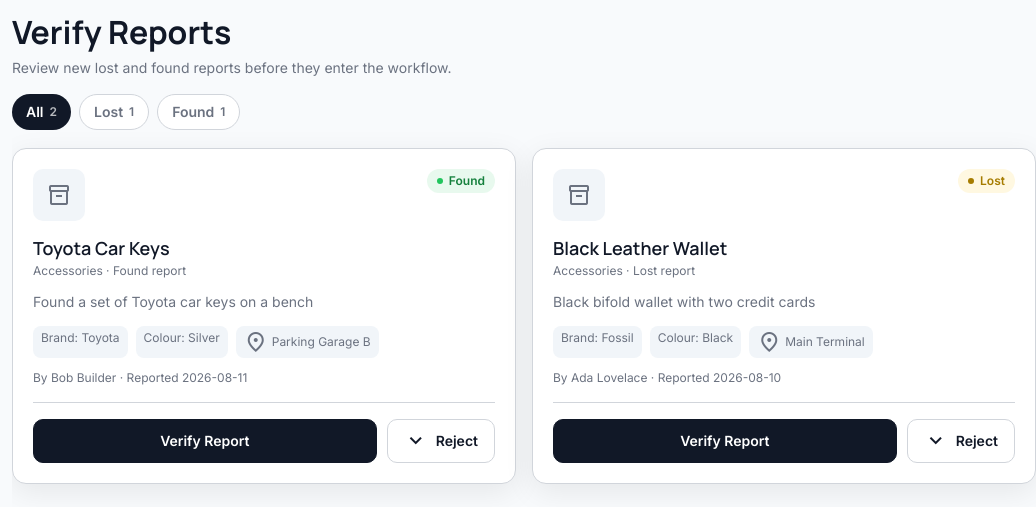
VerifyReports › renders both report types and filters them with the tabs
The image size is (1036, 507).
Expected: the heading "Black Leather Wallet" is shown, [553, 236, 727, 260]
Expected: the heading "Toyota Car Keys" is shown, [33, 236, 170, 260]
Click the tab "Lost 1": (114, 112) [79, 94, 149, 130]
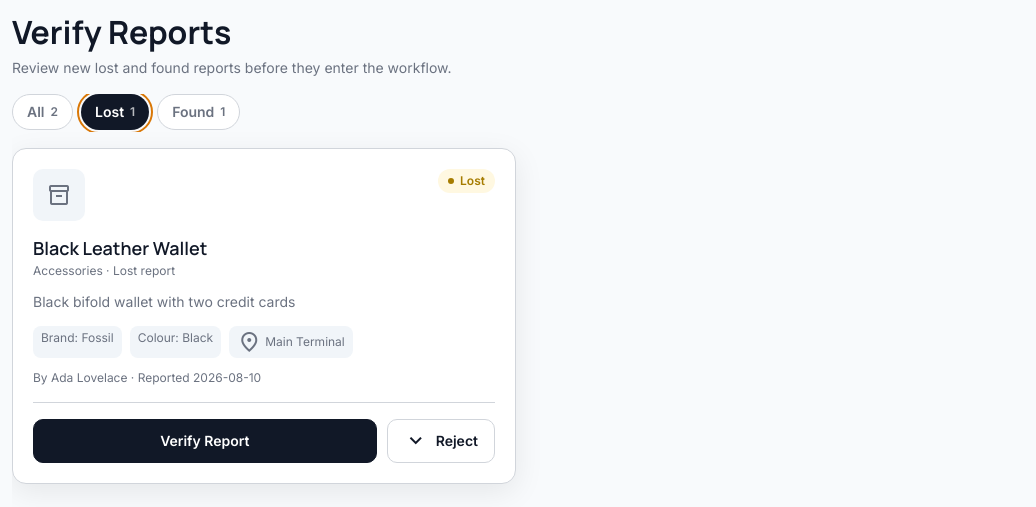
Expected: the heading "Black Leather Wallet" is shown, [33, 236, 207, 260]
Result: the heading "Toyota Car Keys" is gone
